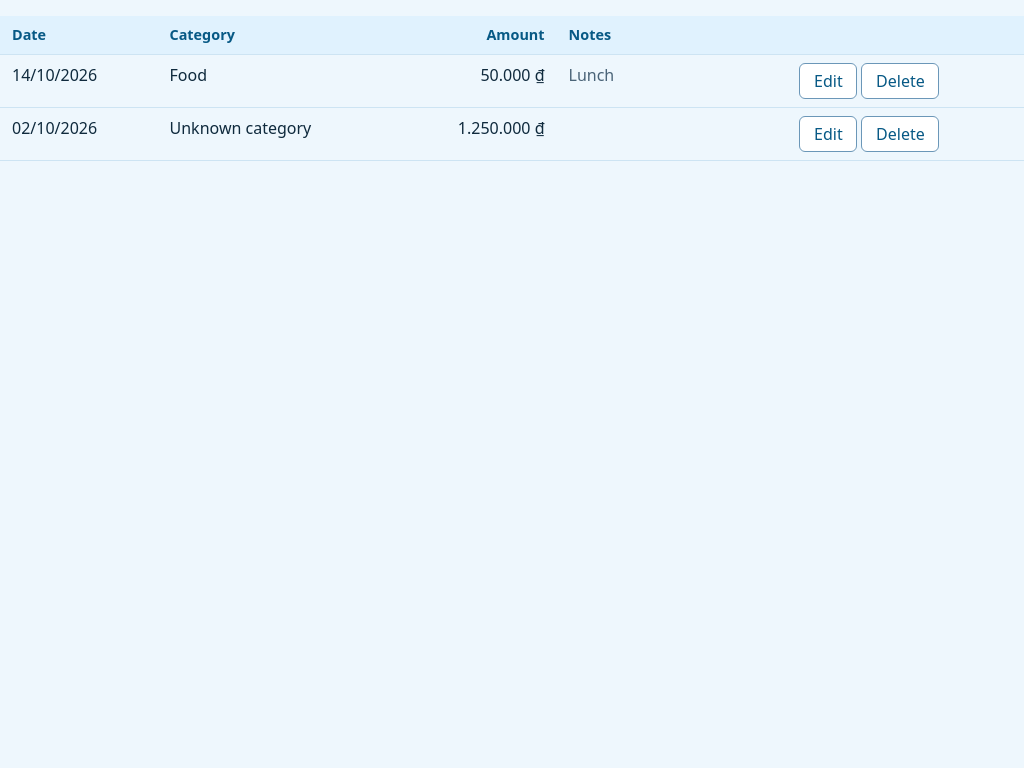
it: cancel keeps the expense
The image size is (1024, 768).
Click the button with aria-label "Delete Food" at (900,81), box [862,63,939,99]
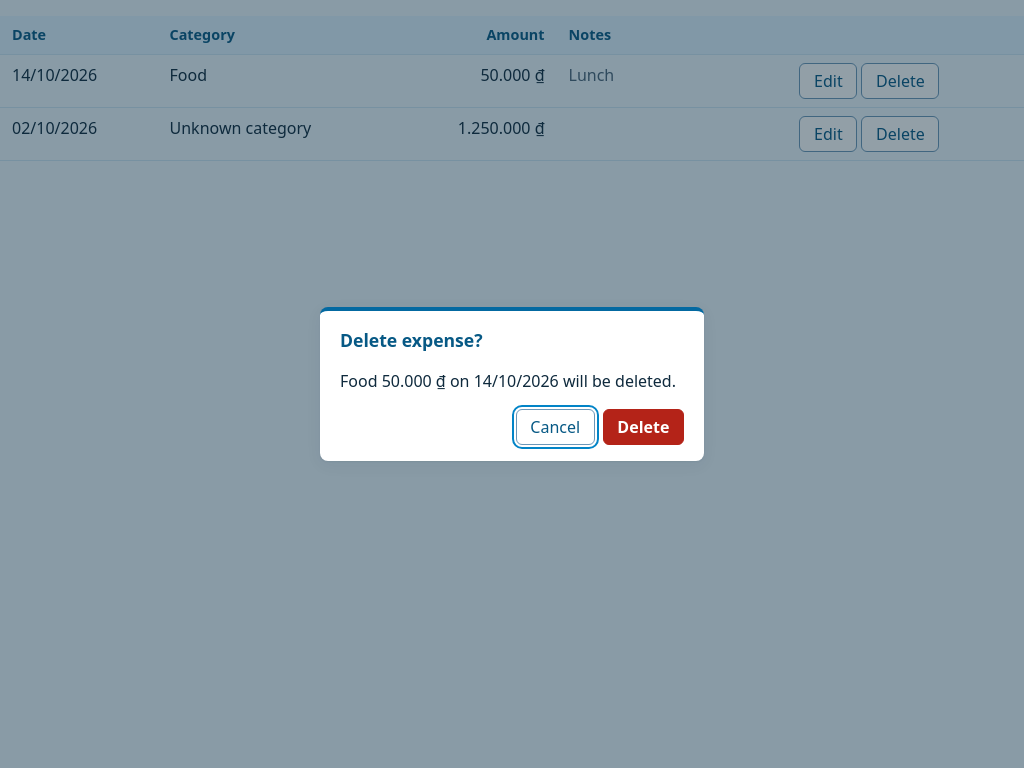
Click the button "Cancel" at (555,427), box [516,409,595,445]
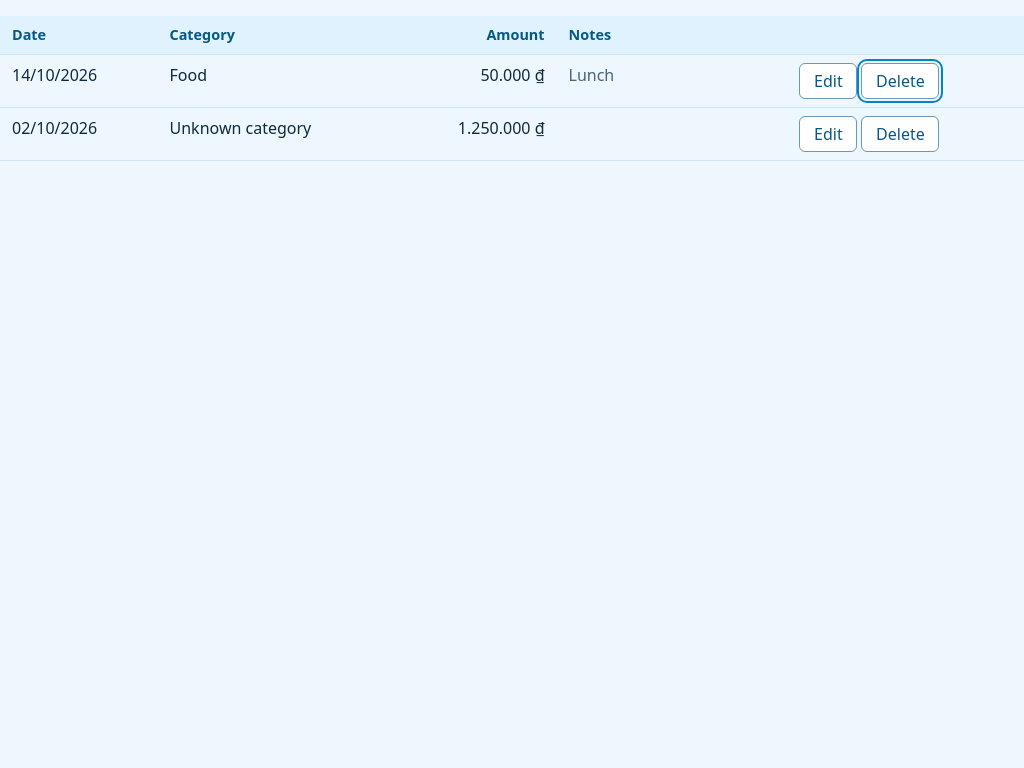
Result: the dialog is gone
